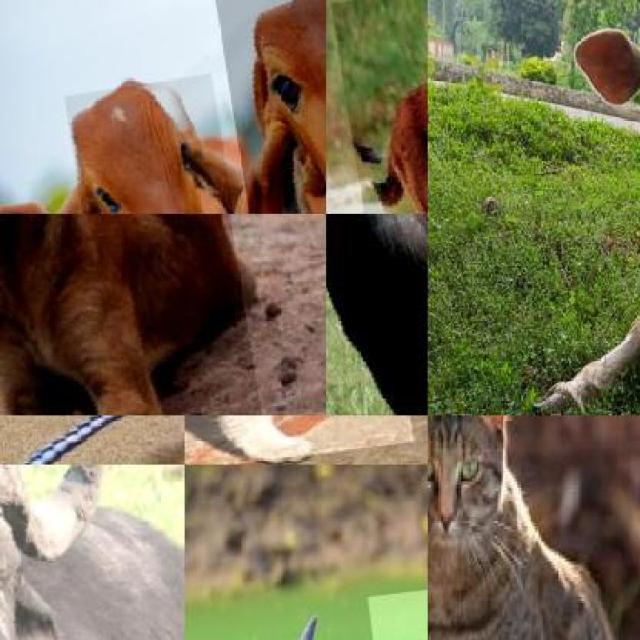buffalo: (0, 464, 184, 640), (326, 214, 428, 415)
cat: (428, 415, 638, 640)
cow: (63, 72, 251, 214), (575, 0, 639, 415), (214, 0, 326, 214)
dog: (0, 214, 269, 415), (330, 0, 428, 214)
